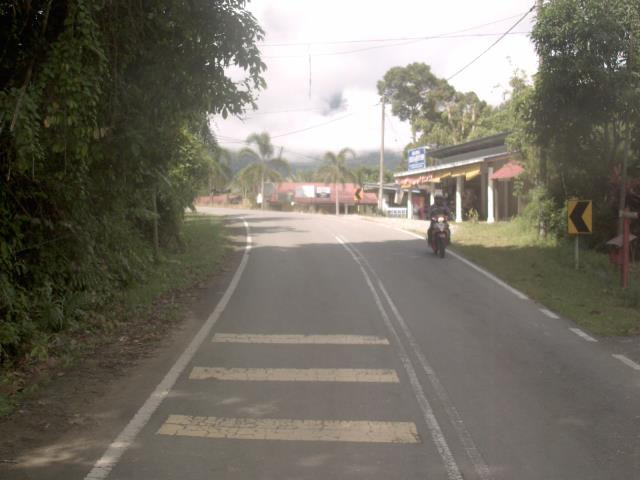traffic_sign: (559, 192, 600, 241)
